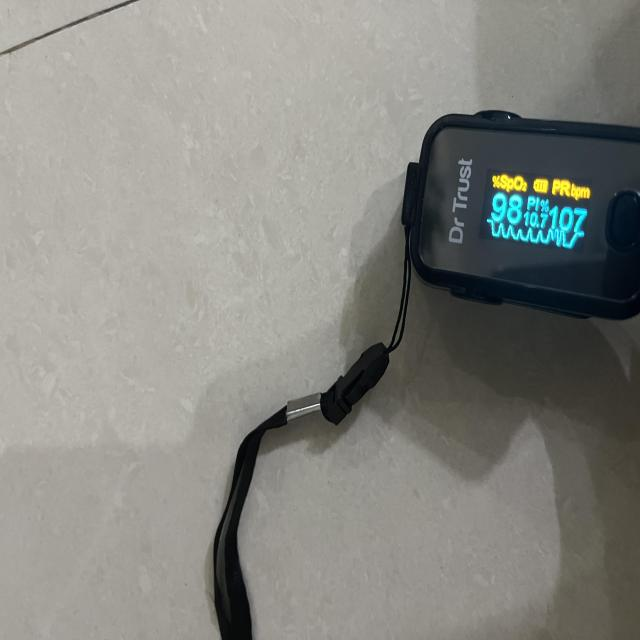spo2: (402, 111, 640, 322)
